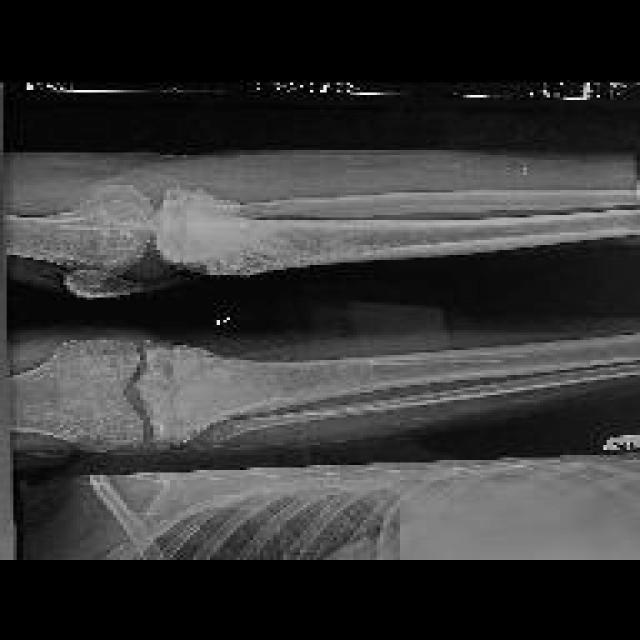bone-cancer: (156, 183, 291, 275), (136, 347, 267, 438)
